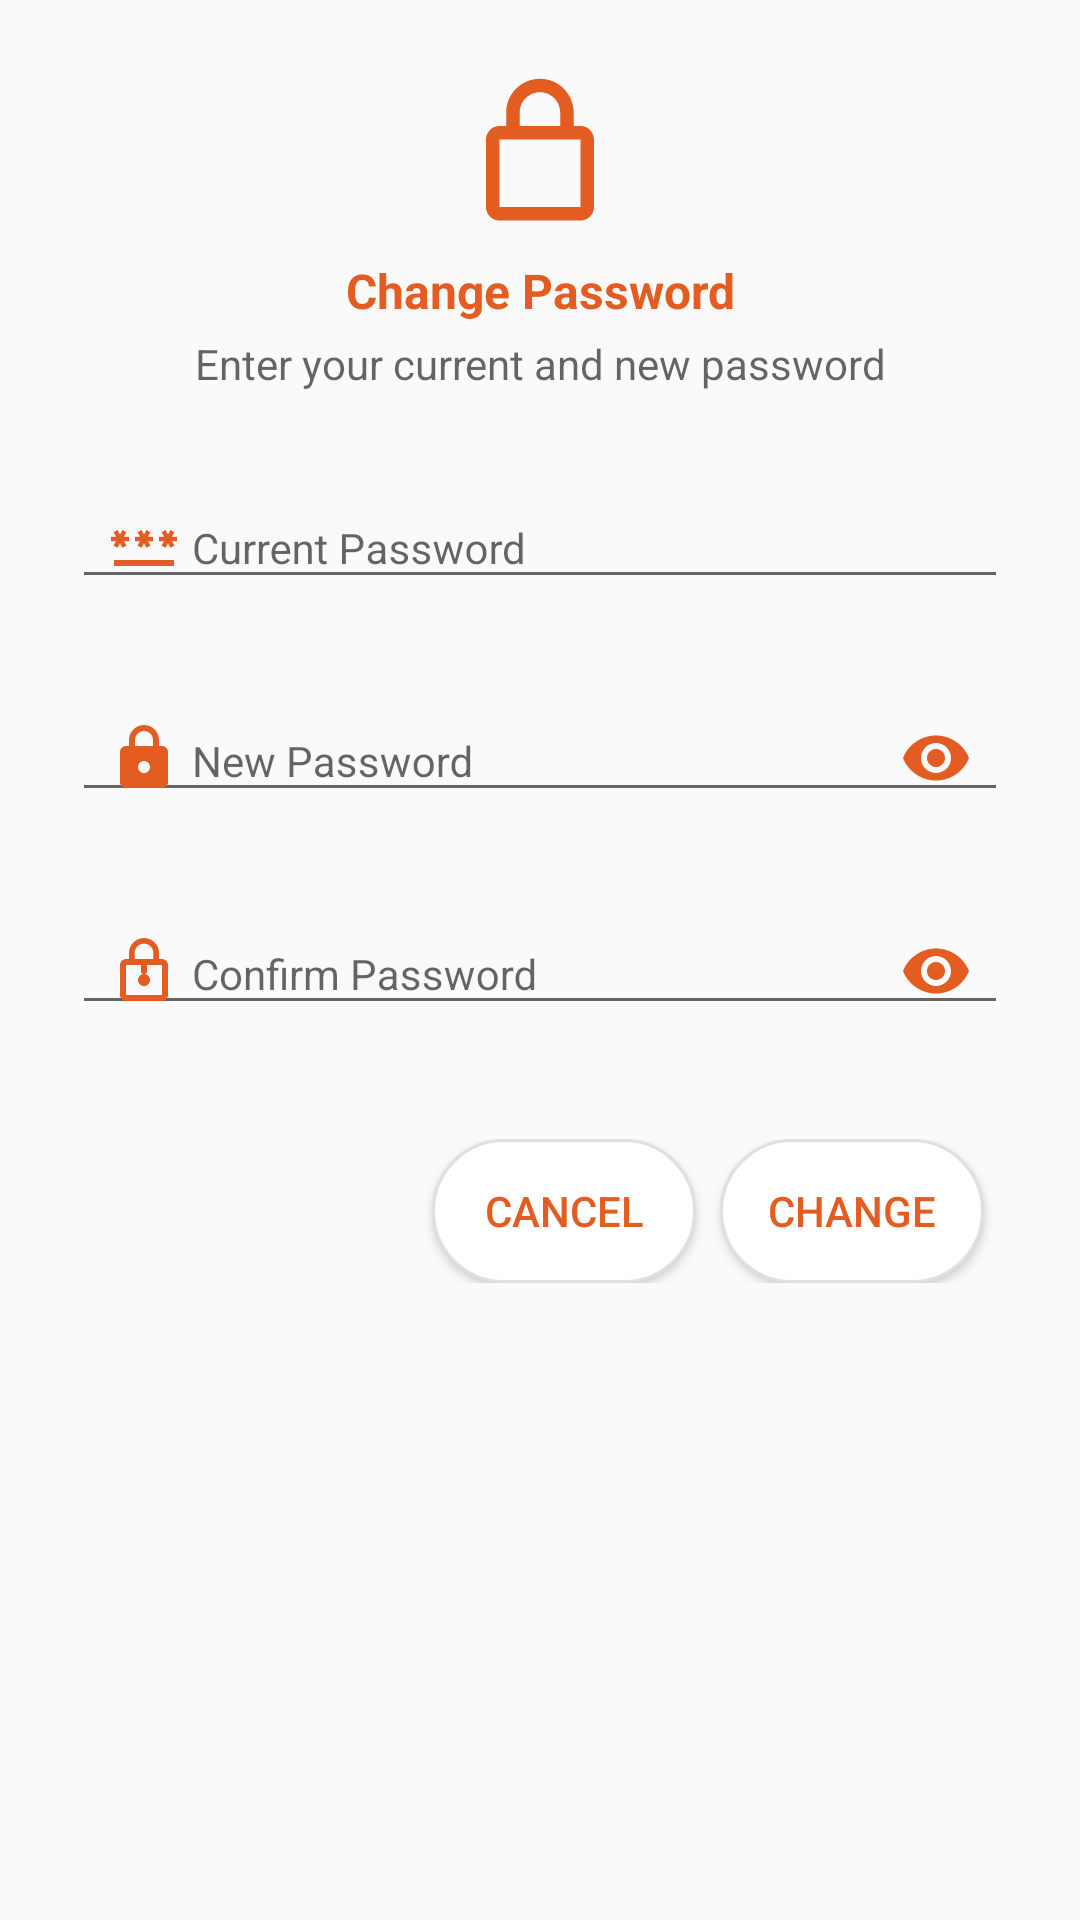

Icons on this 1080px×1920px Android screen, each with the point to tap as (x,y):
lock: (540,149)
